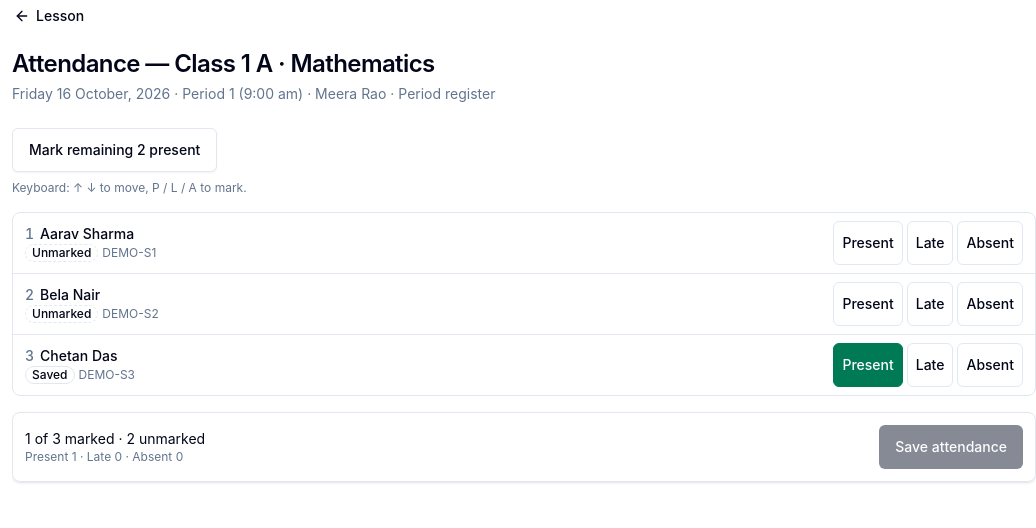
Test: marking roster › unmarked is its own state; "mark all present" then exceptions; only changed rows are sent
Expected: the text "Unmarked" next to "DEMO-S1" is shown, [32,245,91,260]
# Chetan is already marked: the button fills only the 2 unmarked rows
Click the button "Mark remaining 2 present": (115, 150) [12,128,217,172]
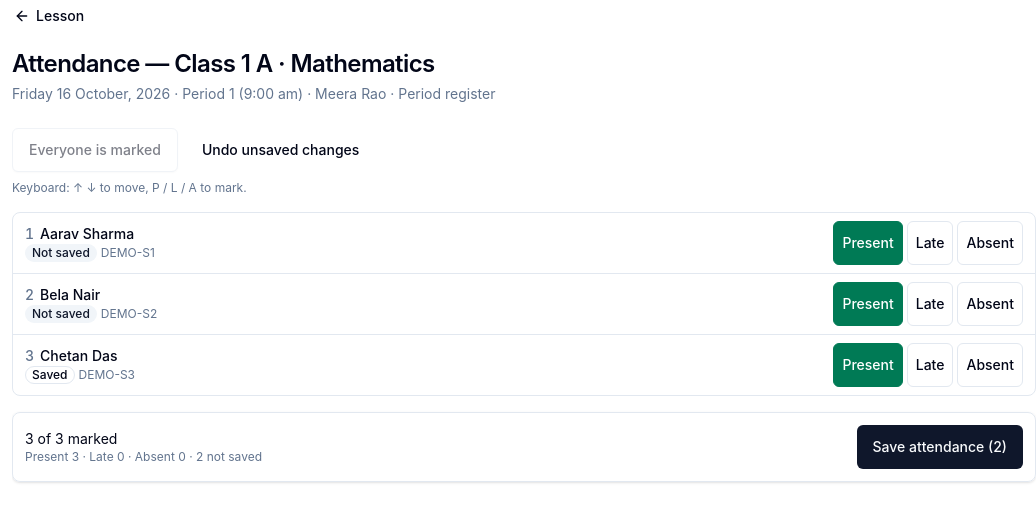
Expected: the list item with test id "roster-row" has attribute data-state="changed", [13,213,1035,274]
# exception: Bela absent
Click the radio button labelled "Absent" in the row of "Bela Nair": (990, 304) [958,282,1023,326]
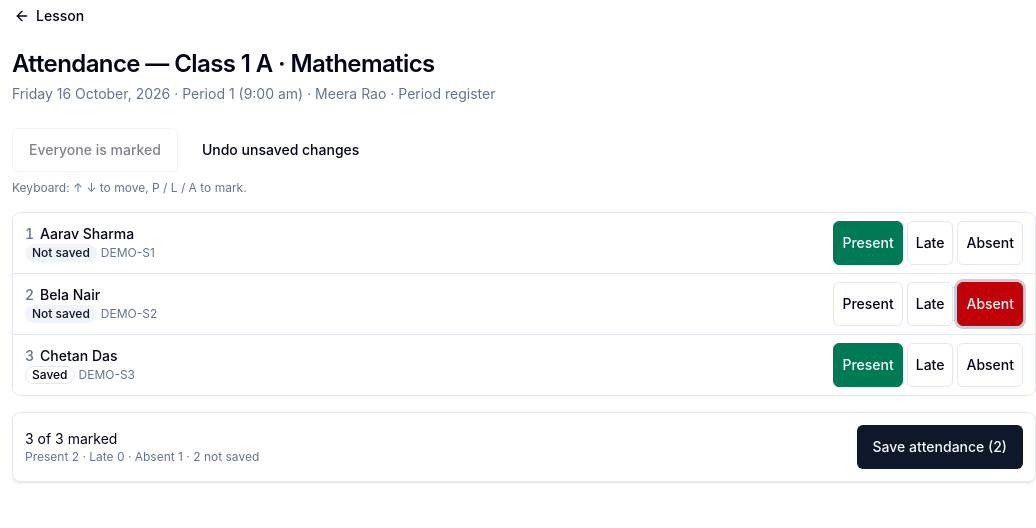
Expected: the text with test id "roster-summary" reads "3 of 3 marked", [25,430,117,447]
Click the button "Save attendance (2)": (940, 447) [856,425,1023,469]
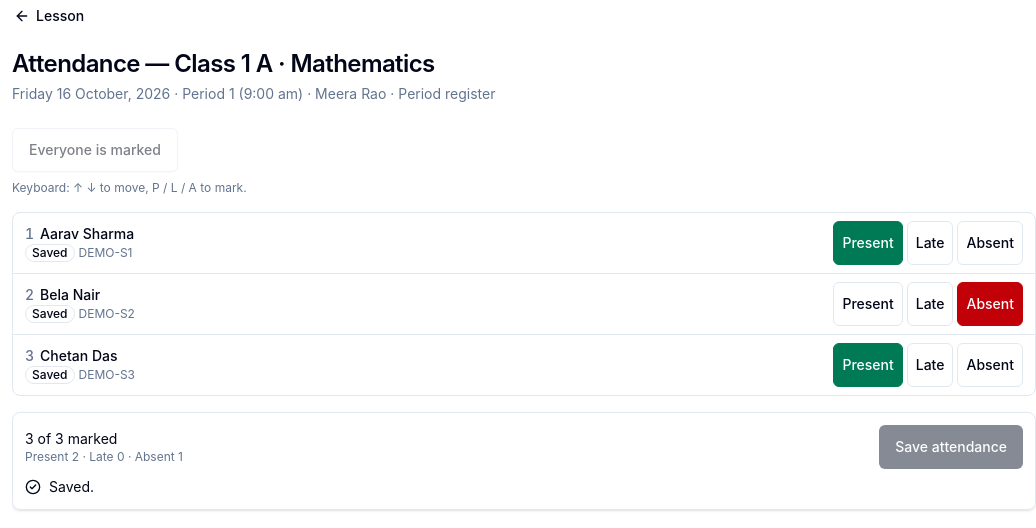
Expected: the text "Saved." is shown, [49,477,94,497]
